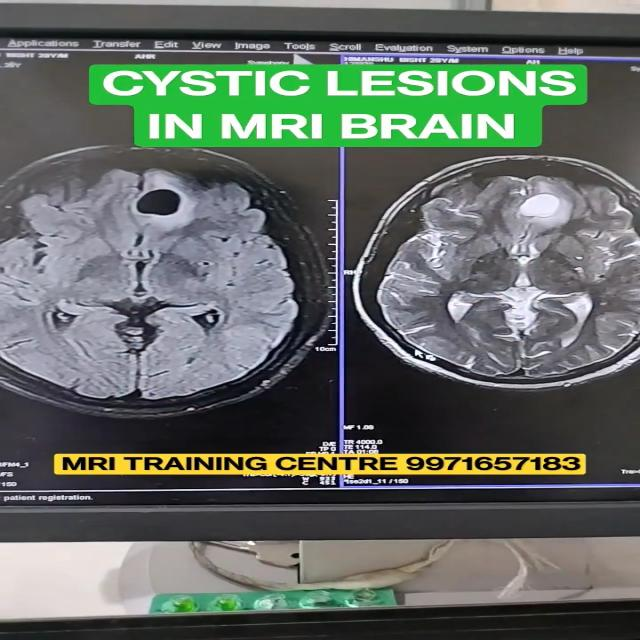tumor: (510, 182, 622, 252), (128, 182, 228, 237)
